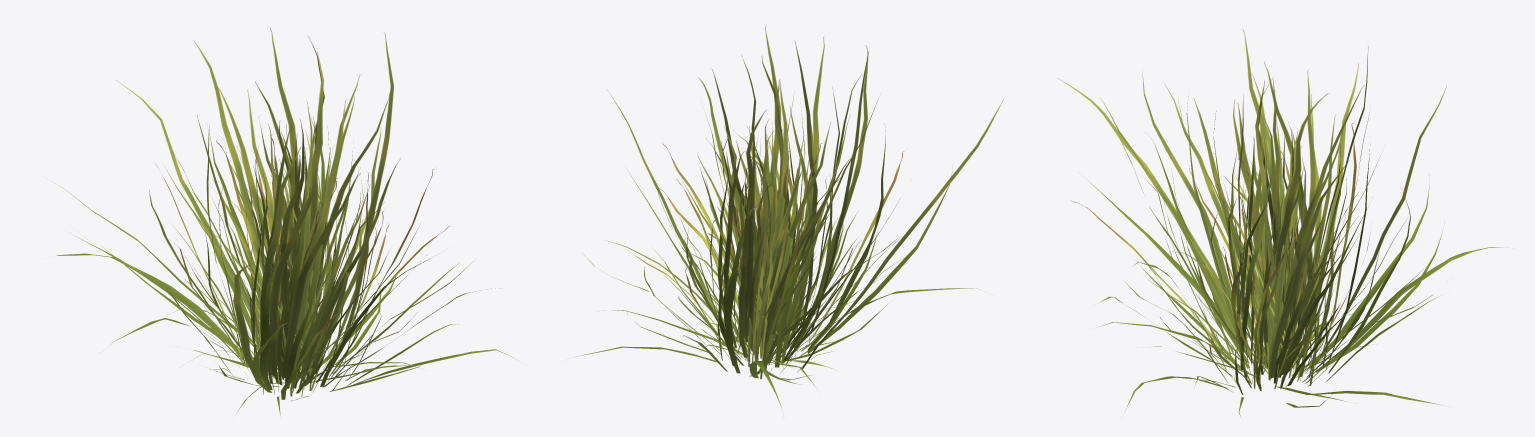
The model's file is grass-lite.glb.
The picture shows the model from 3 angles, left to right: view 1: azimuth 30°, elevation 25°; view 2: azimuth 150°, elevation 25°; view 3: azimuth 270°, elevation 25°; orthographic projection. The views are drawn at different scales.
Parts seen in each view (by area): view 1: Grass1; view 2: Grass1; view 3: Grass1.
Part boxes in pixels (<box>): Grass1: <box>52,27,517,415</box>; Grass1: <box>574,27,1003,411</box>; Grass1: <box>1057,29,1507,416</box>.
Size of the model in its own units: 0.7112 by 0.6071 by 0.7716.
Materials: 3 (3 with a texture image).
